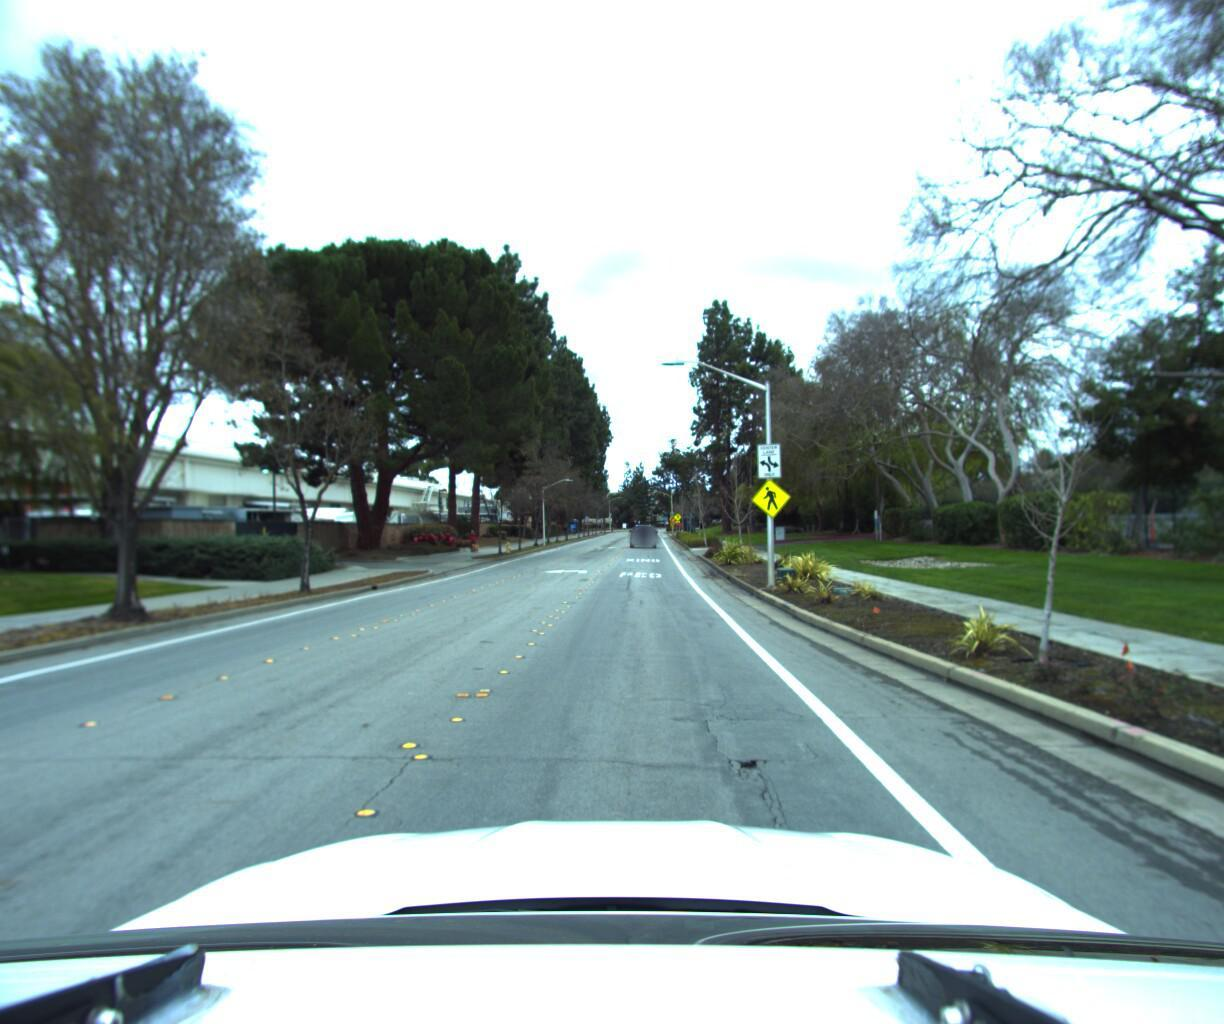car: (628, 521, 655, 545)
